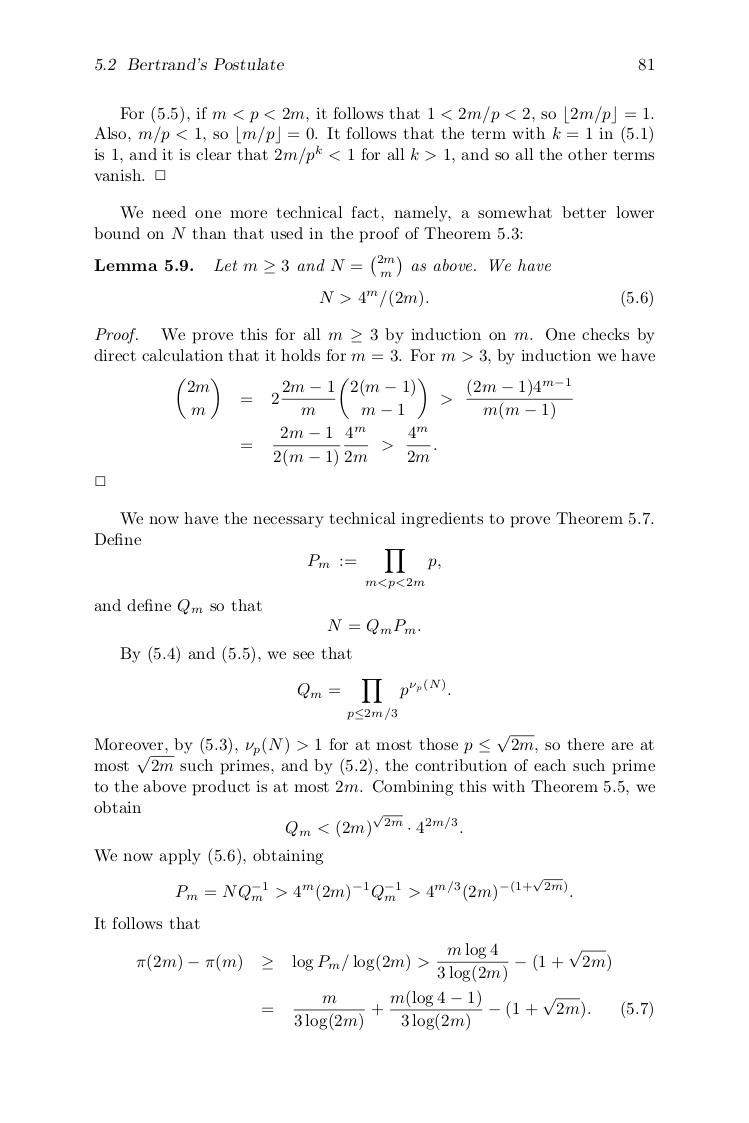formula: (136, 942, 610, 983), (177, 377, 572, 420), (262, 989, 652, 1031), (175, 878, 572, 902), (241, 426, 436, 466), (319, 289, 652, 308), (297, 679, 450, 719), (307, 549, 440, 588), (285, 815, 462, 837), (327, 618, 420, 635)
